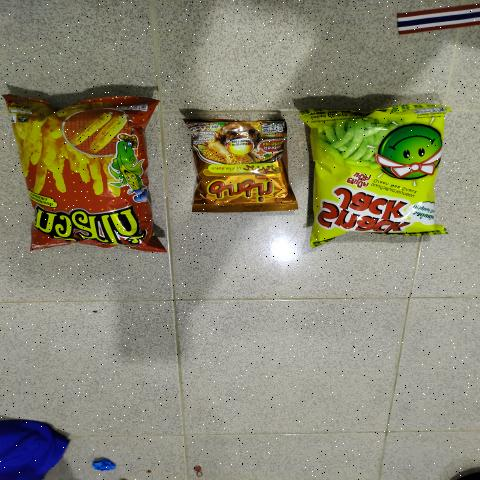mama: (200, 123, 285, 204)
snack_jack: (319, 110, 435, 230)
twisco: (35, 107, 141, 247)
